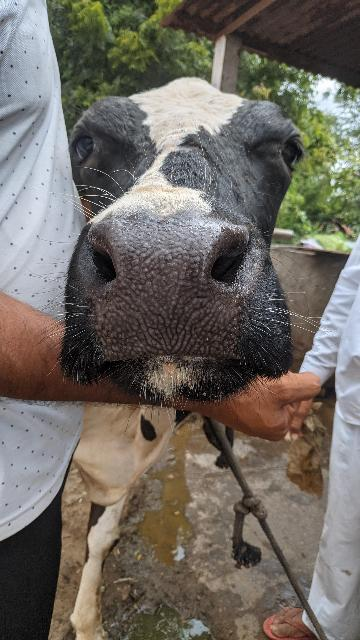Muzzle: (100, 228, 238, 360)
